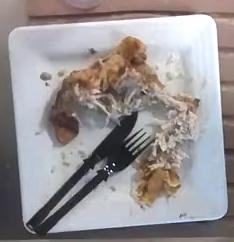chicken: (35, 35, 202, 233)
